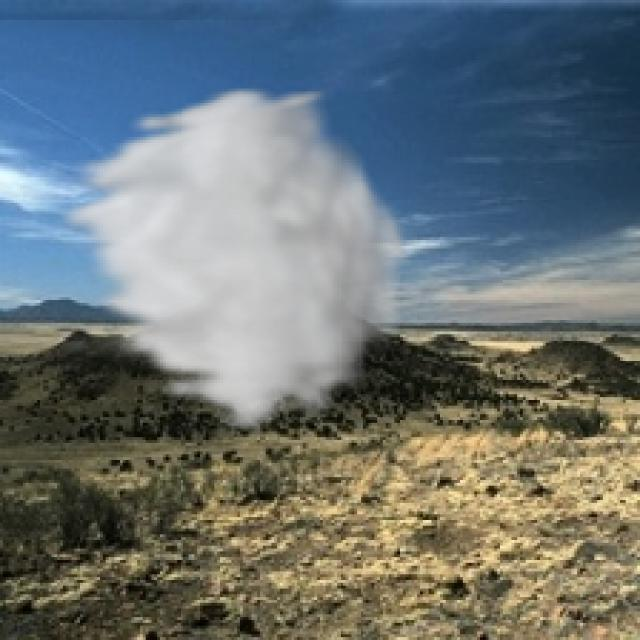smoke: (46, 83, 414, 437)
